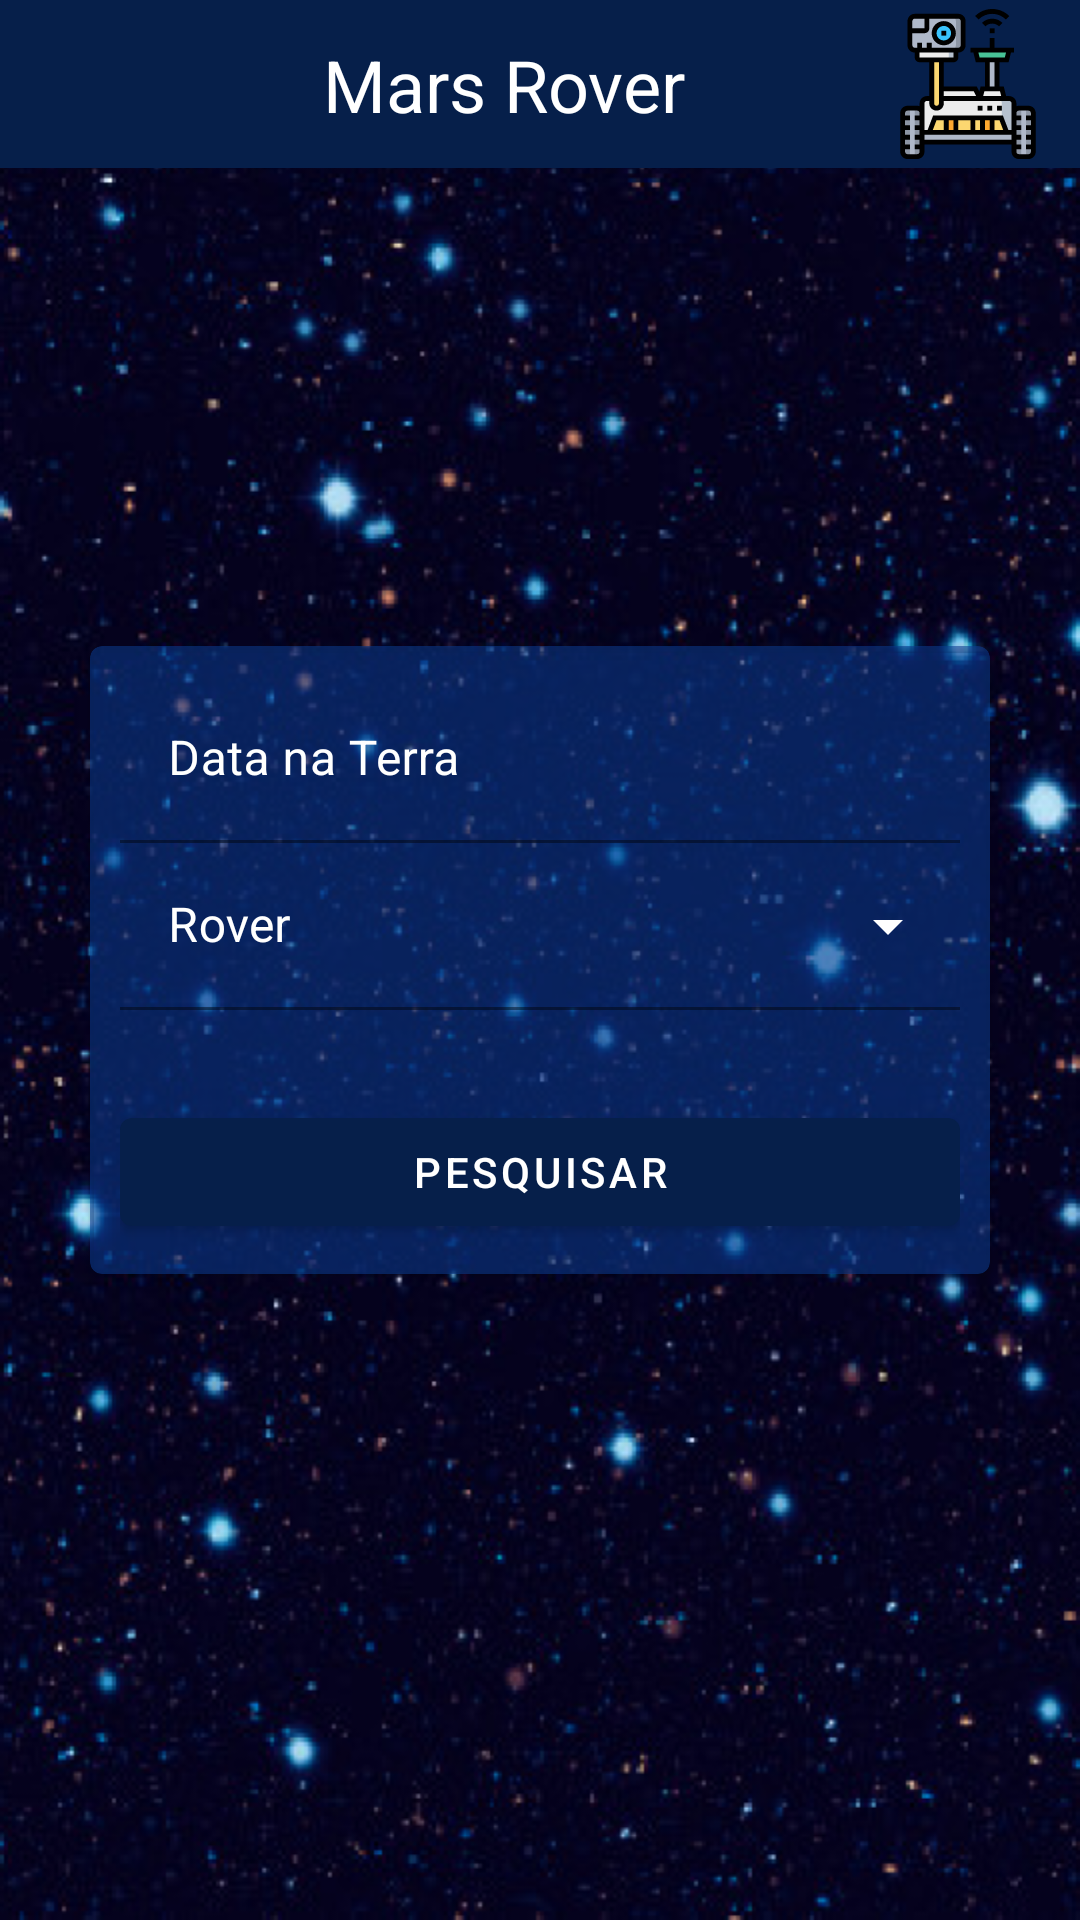

Where to tap for icons on this 1080px x 1920px app screen, as point (x, y):
mars rover: point (968, 84)
